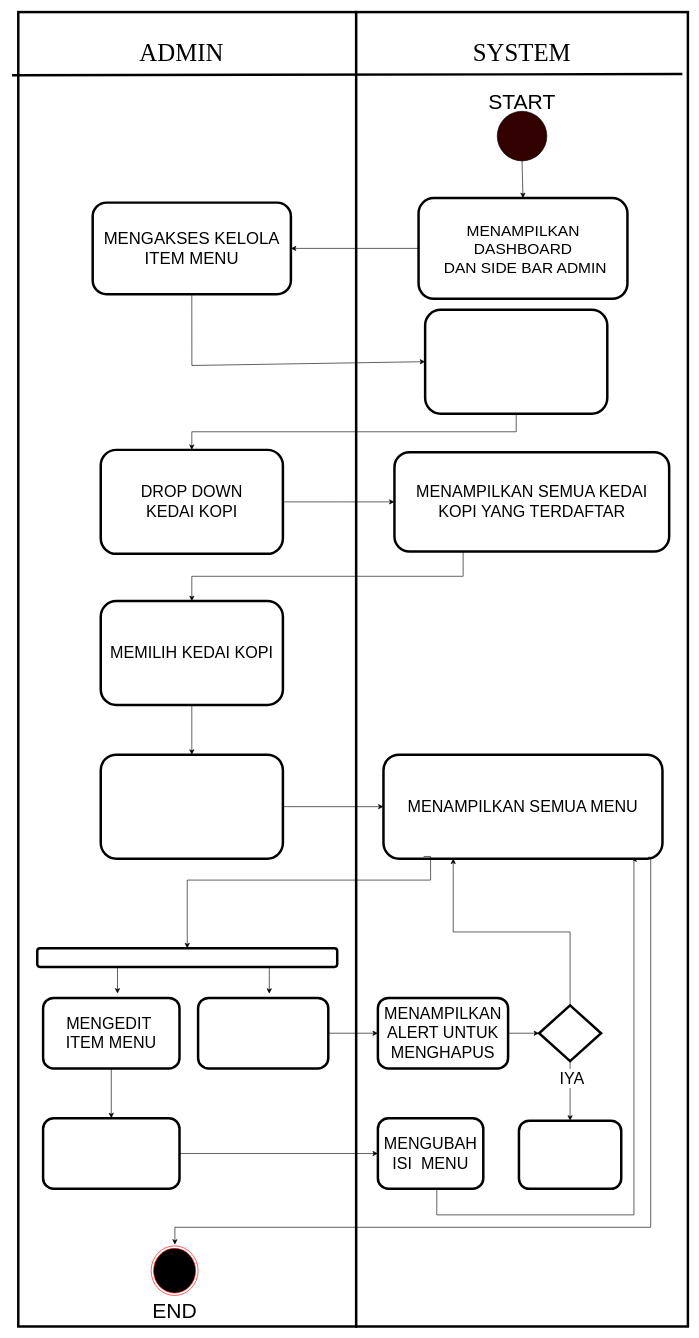
Image size: 699x1338. Some labels were removed from this diagram. Each missing label, with the box of its shape:
MENAMPILKAN HALAMAN KELOLA ITEM MENU: (424, 308, 608, 415)
MENGHAPUS ITEM MENU: (197, 996, 329, 1070)
MENGHAPUS MENU: (517, 1119, 622, 1190)
MENGISI FORM: (99, 753, 284, 860)
MENGISI FORM EDIT: (42, 1117, 180, 1190)
